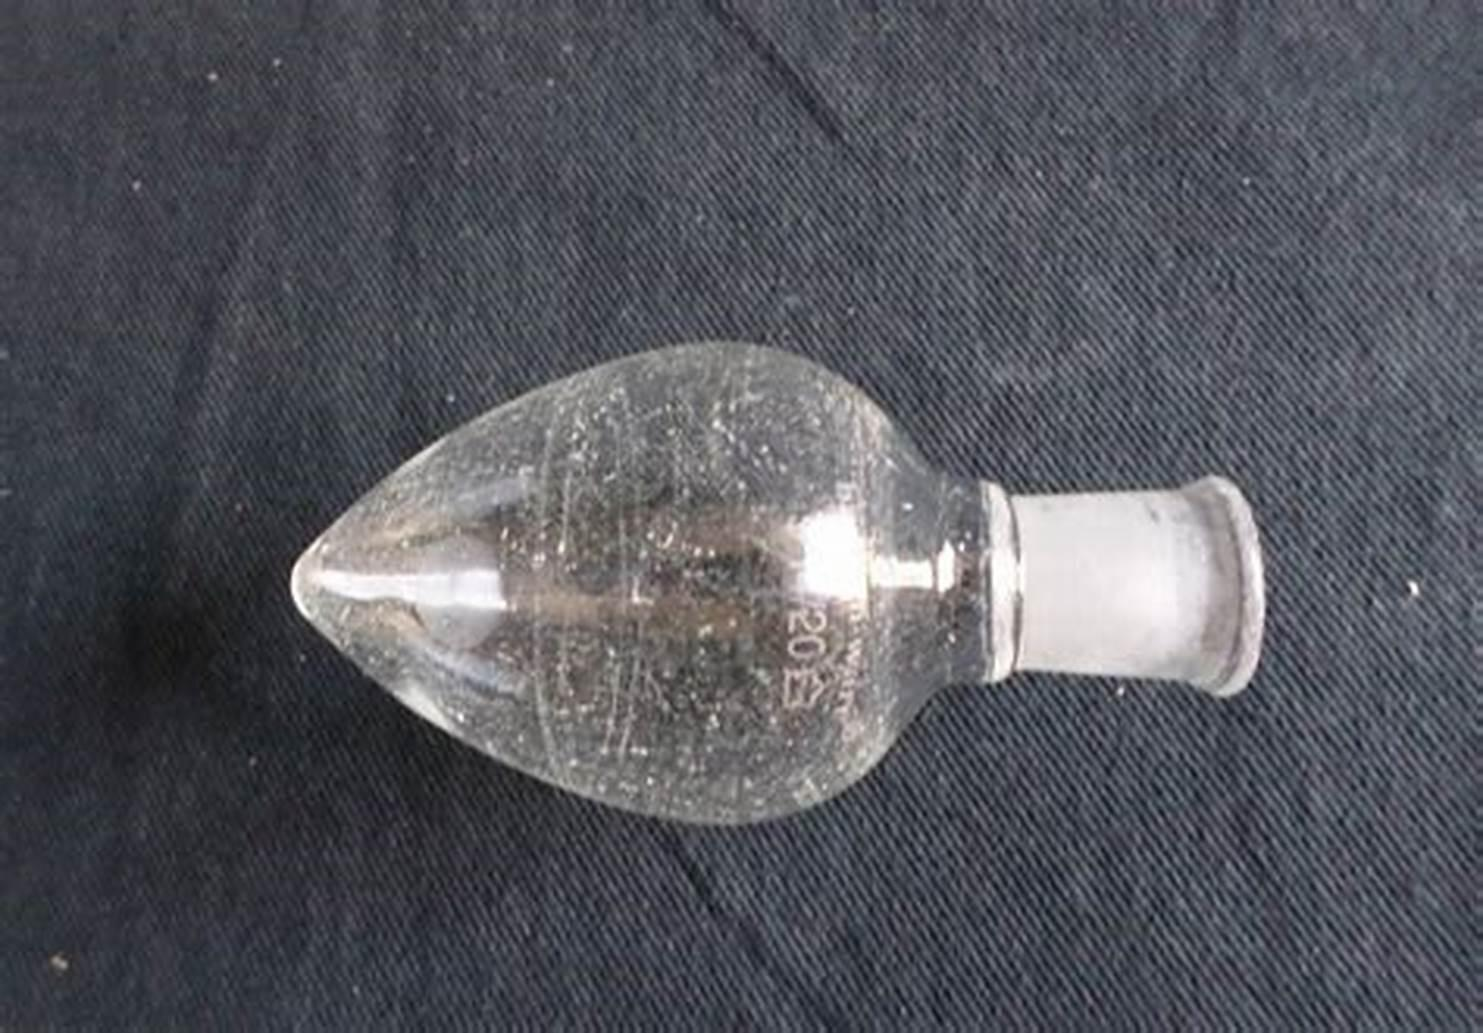Pear shaped flask: (249, 354, 1294, 827)
